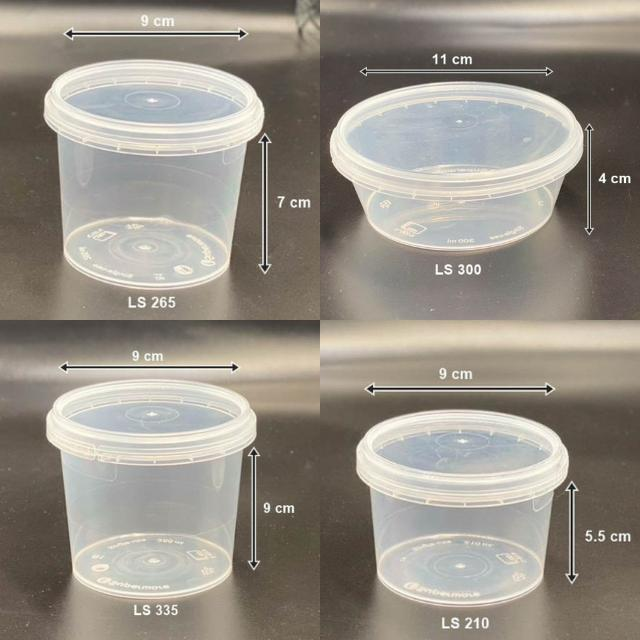Single-Use-Plastic: (44, 60, 262, 289), (46, 380, 256, 599), (331, 82, 582, 251), (356, 410, 568, 607)
